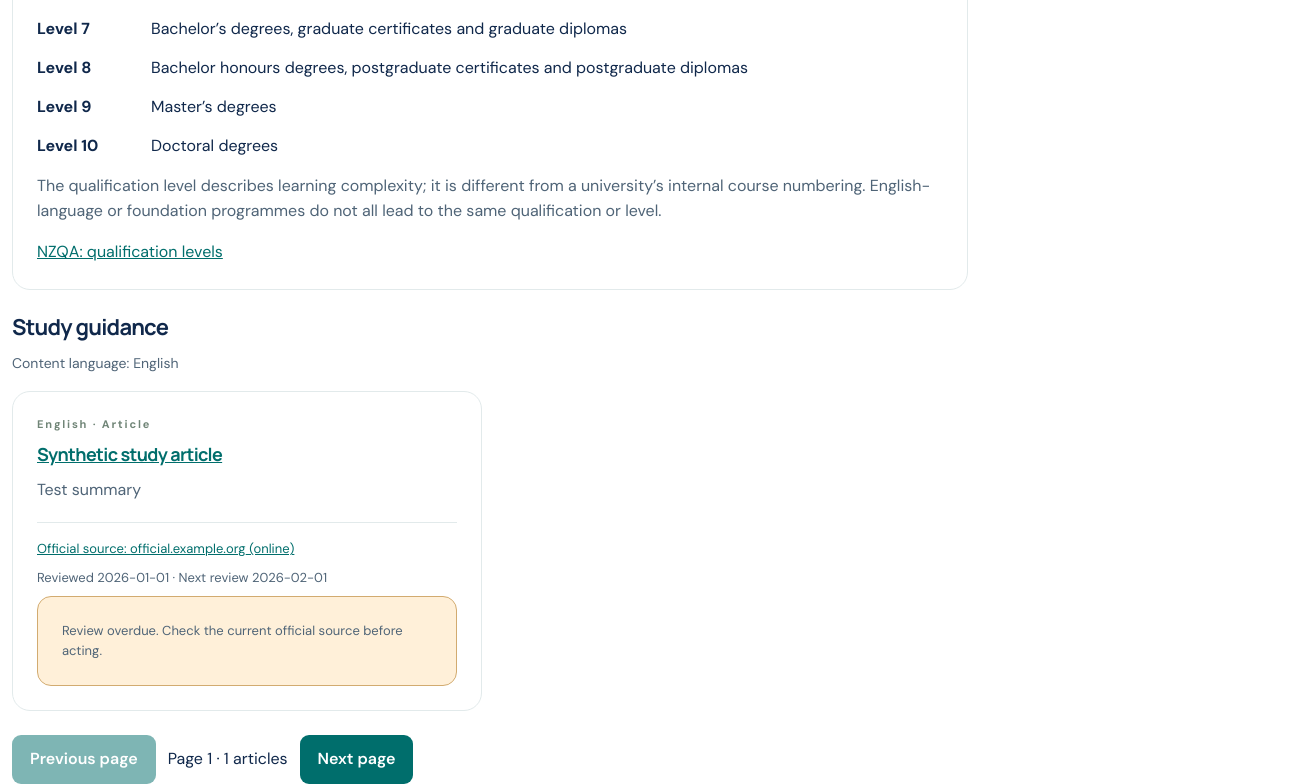
Test case: paginates on the fixed endpoint and never follows an API-supplied external URL
The width and height of the screenshot is (1292, 784).
(page scrolled)
Check: the link "Synthetic study article" is shown, box [37,442,222,466]
Click the button "Next page": {"x": 357, "y": 759} [300,735,414,783]
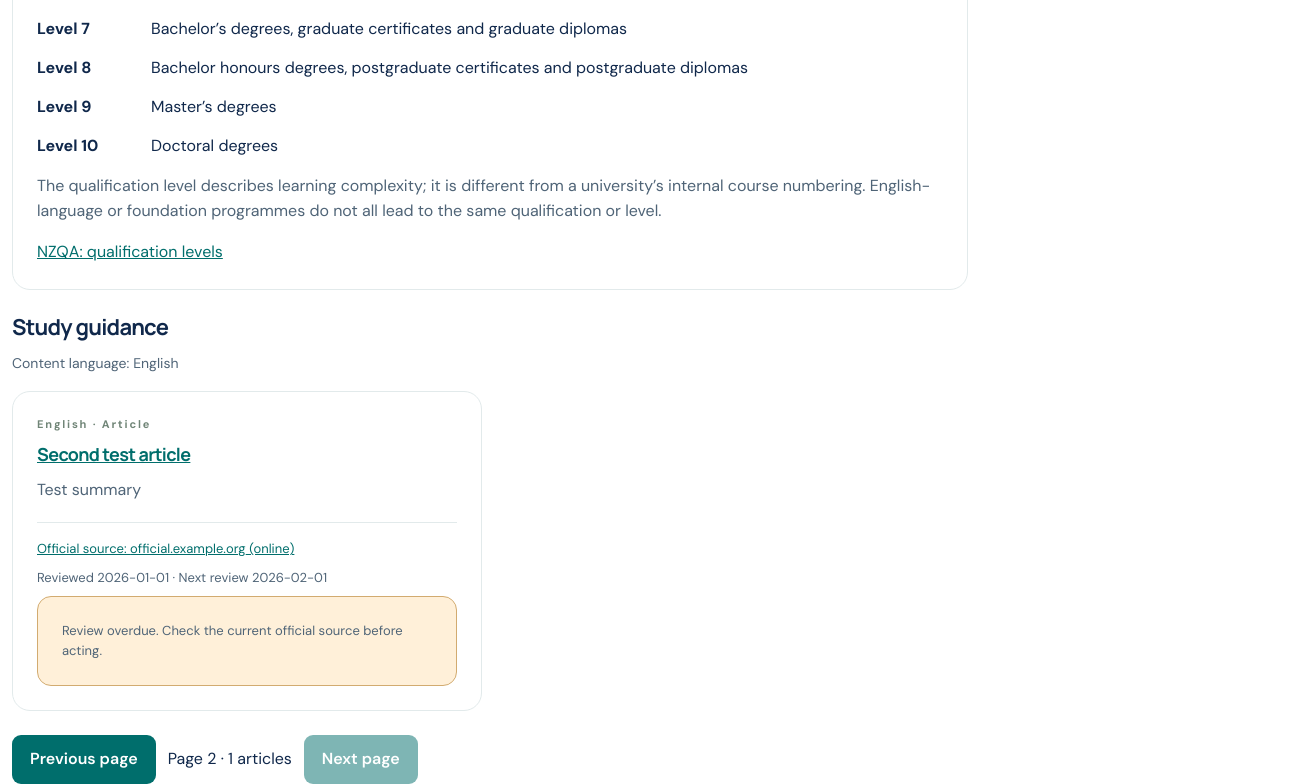
Check: the link "Second test article" is shown, box [37,442,190,466]
